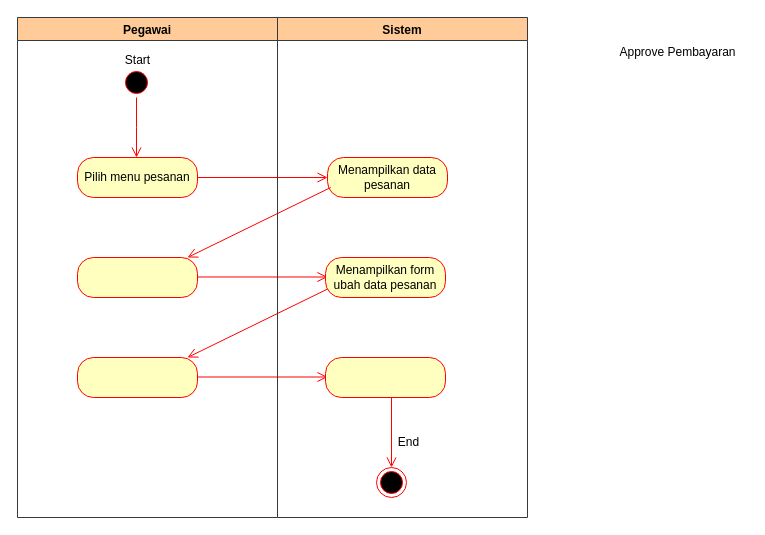
This 765x535 diagram has some shape labels left out. Here are the shapes that lost their labels. From the top down, the centre of each, then its label:
At (137,277): "klik button edit".
At (137,377): "pilih status konfirmasi".
At (385,377): "update status pesanan tellah dibayar".
